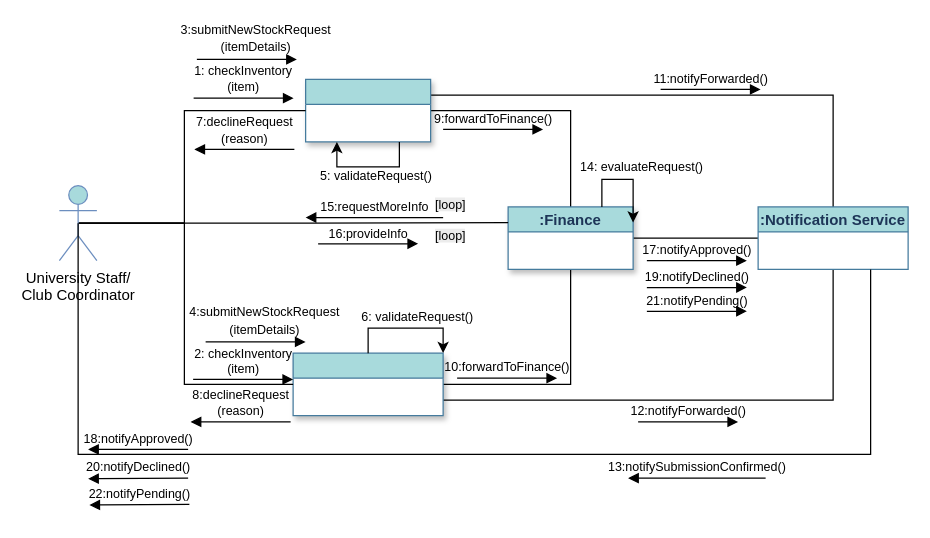
This 930x538 diagram has some shape labels left out. The shapes that lost their labels are listed below. From the top down, each one's centre as x and y in pixels, then its label:
At (368,112): ":IT Department".
At (369,385): ":Service Department".
